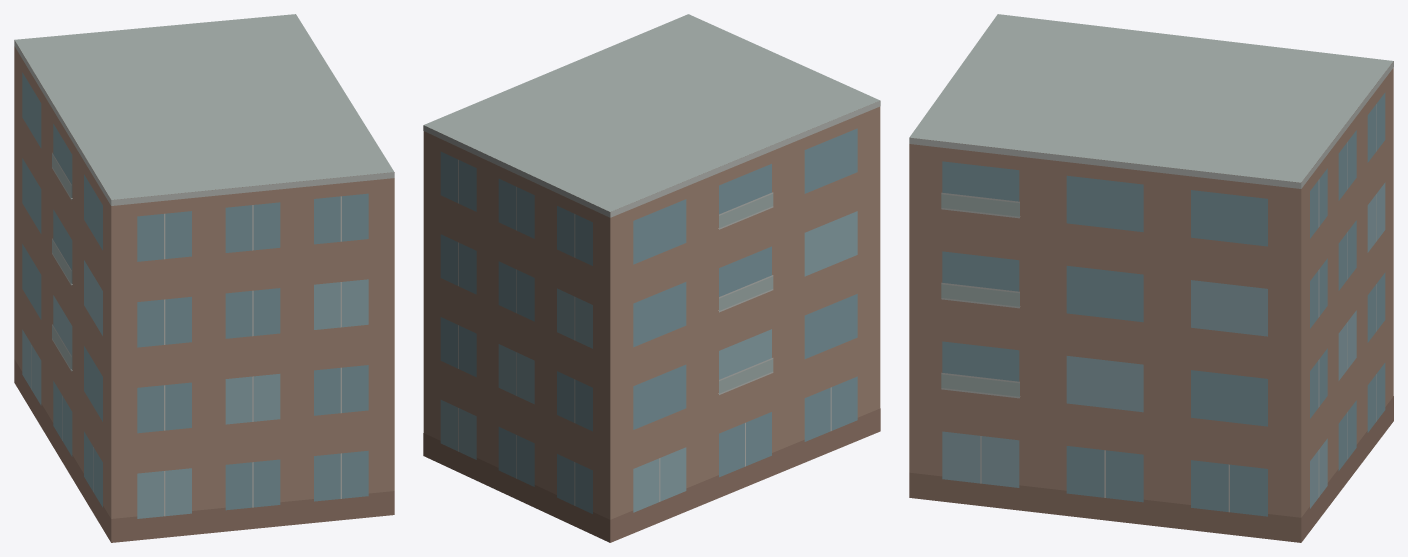
File: survey-upis-33030184.glb
3 renders of one model, left to right at view 1: azimuth 30°, elevation 25°; view 2: azimuth 150°, elevation 25°; view 3: azimuth 270°, elevation 25°, orthographic. The views are drawn at different scales.
Parts seen in each view (by area): view 1: survey-upis-33030184.tmp; view 2: survey-upis-33030184.tmp; view 3: survey-upis-33030184.tmp.
Boxes of the visible parts, box(x1,y1,x2,y2) form: survey-upis-33030184.tmp: box(14, 14, 394, 542); survey-upis-33030184.tmp: box(423, 14, 880, 542); survey-upis-33030184.tmp: box(909, 14, 1393, 542).
Bounding box in the file's own units: 13.98 × 13.9 × 16.96.
